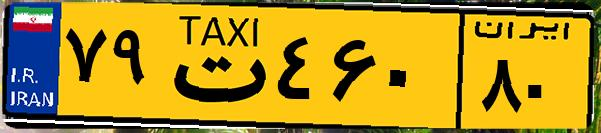0: (385, 28, 445, 110), (525, 38, 570, 115)
4: (270, 28, 330, 110)
6: (330, 28, 385, 110)
7: (57, 26, 110, 100)
8: (475, 38, 525, 113)
9: (110, 28, 158, 98)
ت: (158, 12, 270, 120)
